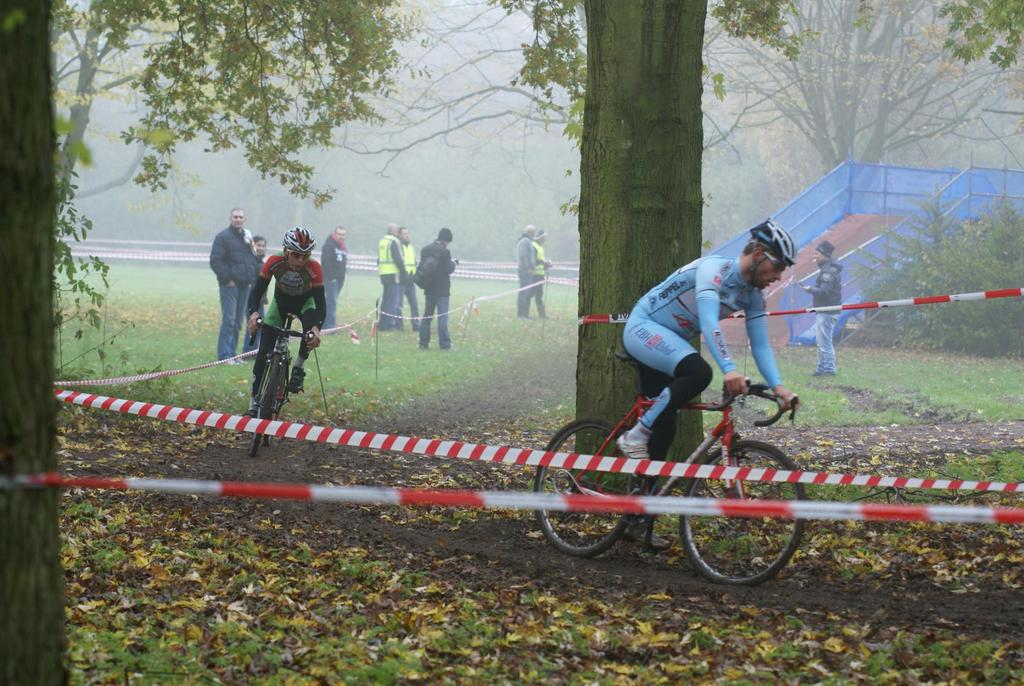Bike_away: (522, 347, 807, 586)
Bike_toward: (244, 309, 317, 457)
